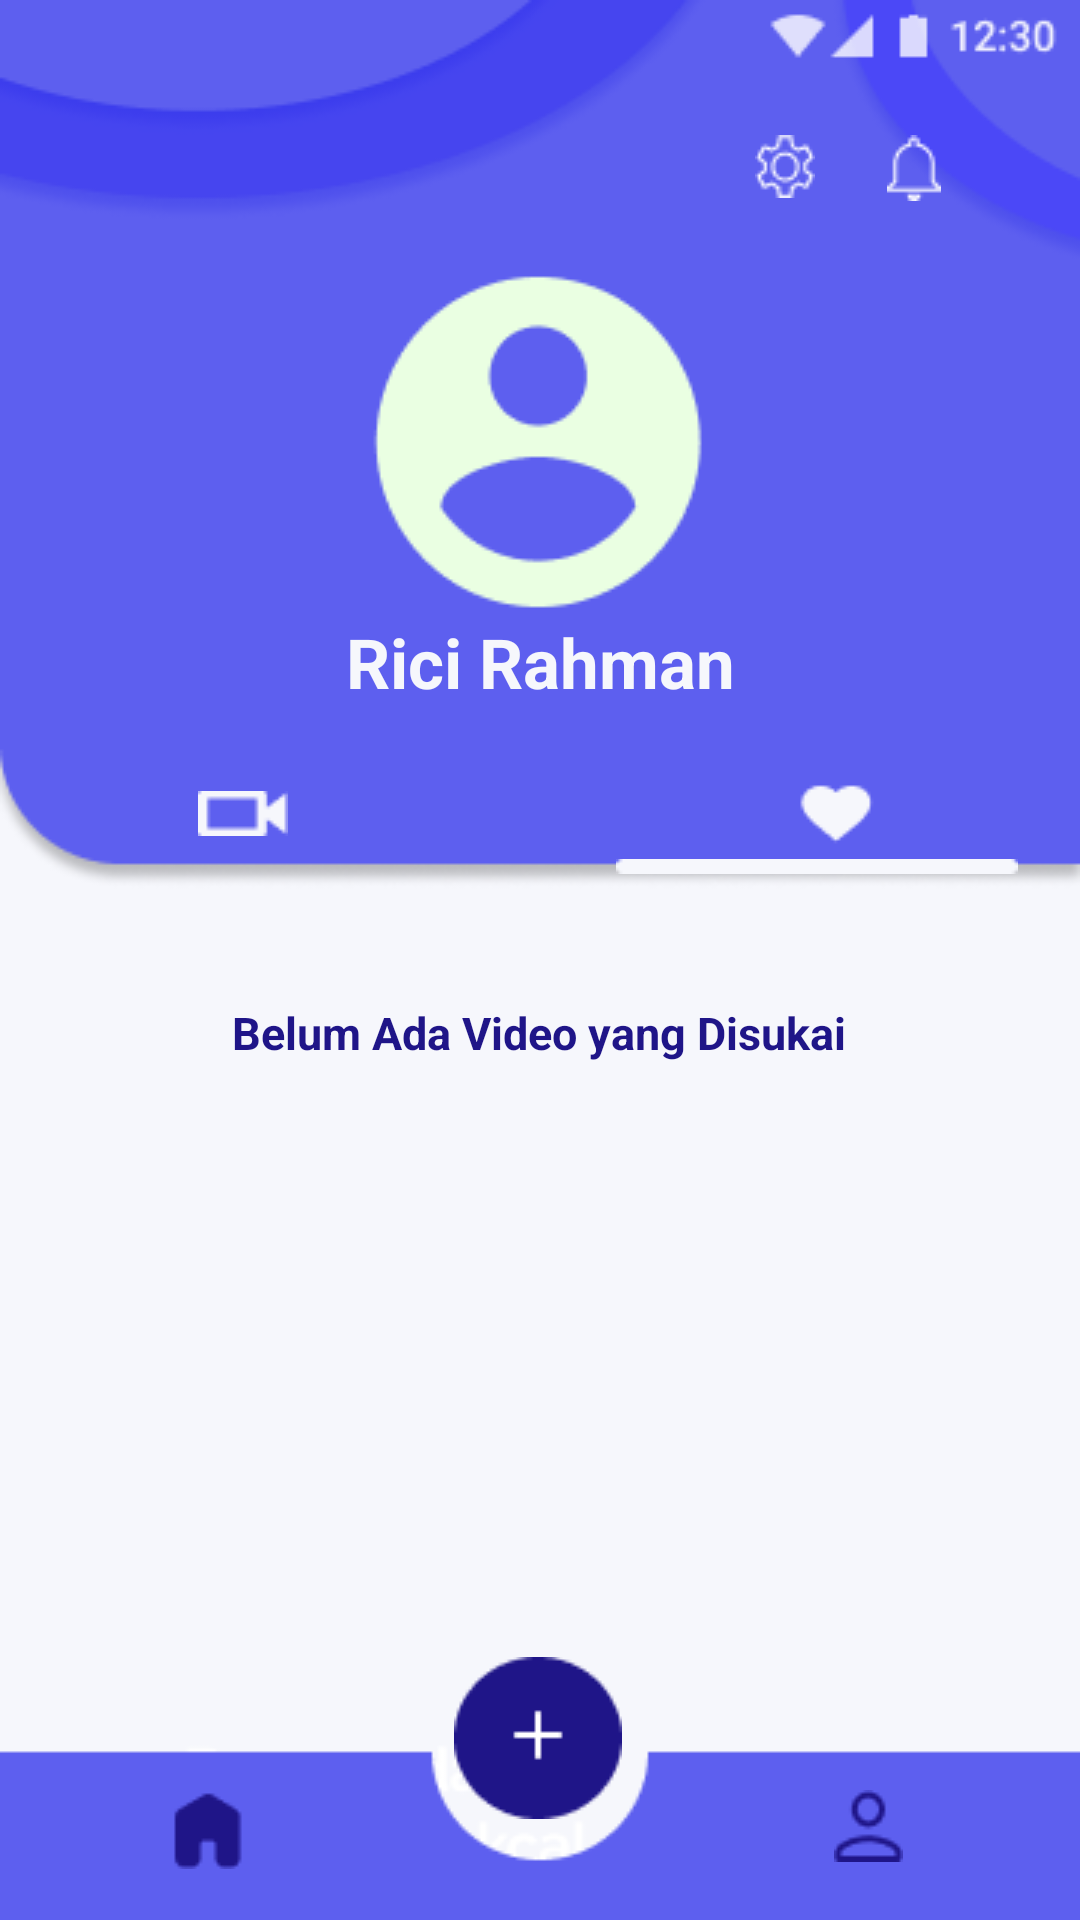

Icons on this 1080×1920 Android screen, each with the point to tap as point (x, y):
home: point (207, 1831)
notif: point (914, 168)
plus: point (538, 1738)
setting: point (785, 166)
